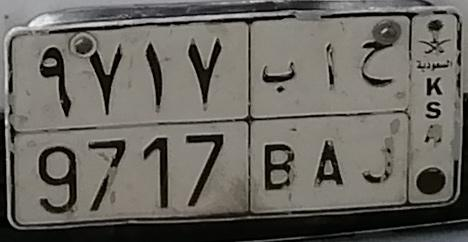1: (140, 39, 172, 212)
7: (87, 41, 129, 212), (184, 35, 225, 207)
9: (36, 45, 80, 214)
A: (311, 42, 346, 188)
B: (261, 60, 299, 193)
J: (359, 38, 398, 184)
